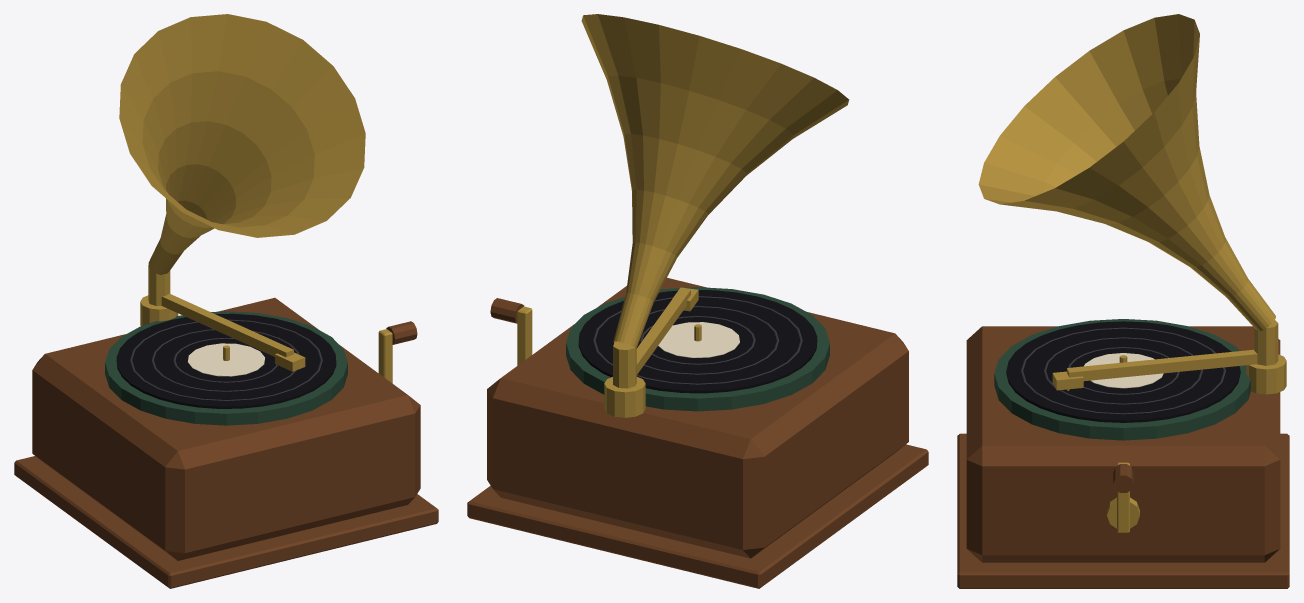
Rendered from Prop_YTM_RecordPlayer_Whole.glb.
3 renders of one model, left to right at view 1: azimuth 30°, elevation 25°; view 2: azimuth 150°, elevation 25°; view 3: azimuth 270°, elevation 25°, orthographic. The views are drawn at different scales.
Parts seen in each view (by area): view 1: Prop_YTM_RecordPlayer_Whole, Prop_YTM_RecordPlayer_Whole_Record, Prop_YTM_RecordPlayer_Whole_Crank; view 2: Prop_YTM_RecordPlayer_Whole, Prop_YTM_RecordPlayer_Whole_Record, Prop_YTM_RecordPlayer_Whole_Crank; view 3: Prop_YTM_RecordPlayer_Whole, Prop_YTM_RecordPlayer_Whole_Record, Prop_YTM_RecordPlayer_Whole_Crank.
Boxes of the visible parts, box(x1,y1,x2,y2) form: Prop_YTM_RecordPlayer_Whole: box(14, 14, 438, 588); Prop_YTM_RecordPlayer_Whole_Record: box(116, 313, 336, 408); Prop_YTM_RecordPlayer_Whole_Crank: box(378, 321, 417, 383); Prop_YTM_RecordPlayer_Whole: box(467, 14, 928, 588); Prop_YTM_RecordPlayer_Whole_Record: box(578, 290, 817, 393); Prop_YTM_RecordPlayer_Whole_Crank: box(490, 298, 532, 365); Prop_YTM_RecordPlayer_Whole: box(957, 14, 1289, 588); Prop_YTM_RecordPlayer_Whole_Record: box(1006, 321, 1240, 422); Prop_YTM_RecordPlayer_Whole_Crank: box(1113, 462, 1133, 532).
Size of what is drawn, in the model's own units: 0.428 by 0.581 by 0.36.
